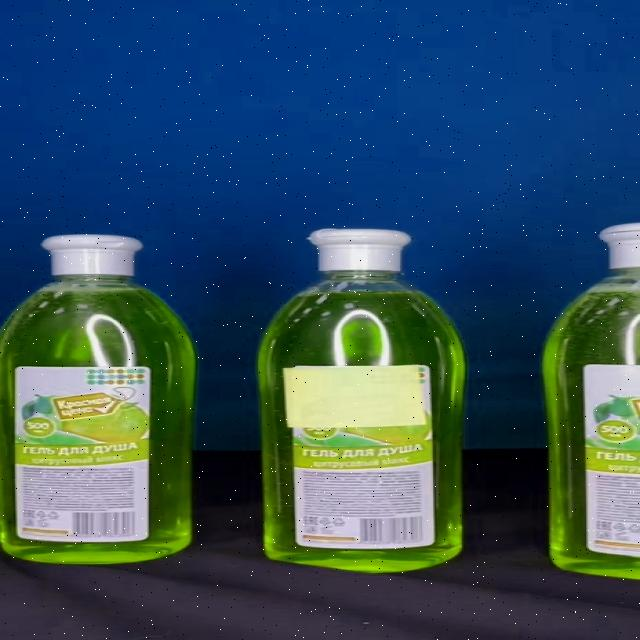Bottle: (258, 228, 466, 573), (0, 234, 195, 564)
Cap: (306, 228, 411, 270), (40, 234, 142, 276)
